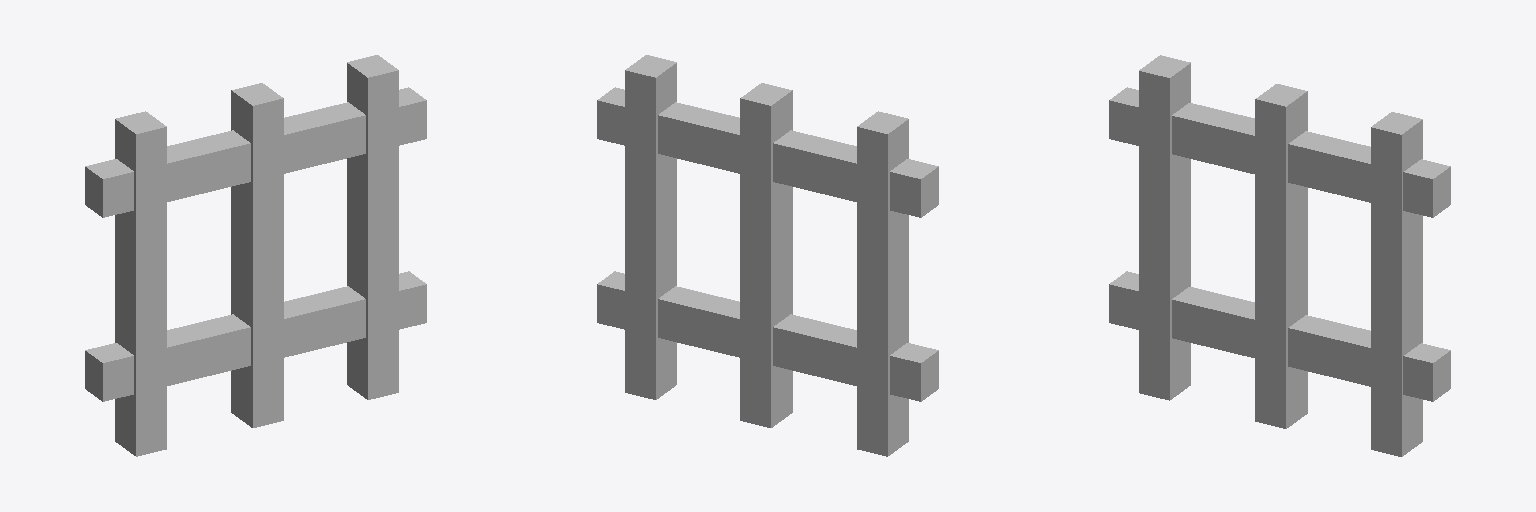
The model's file is fence.obj.
The picture shows the model from 3 angles: view 1: azimuth 30°, elevation 25°; view 2: azimuth 150°, elevation 25°; view 3: azimuth 330°, elevation 25°; orthographic projection.
Visible parts, largest first — view 1: Cube.002_Cube.000; view 2: Cube.002_Cube.000; view 3: Cube.002_Cube.000.
Boxes of the visible parts, x1,y1,x2,y2 form: Cube.002_Cube.000: [85, 55, 426, 456]; Cube.002_Cube.000: [597, 55, 938, 456]; Cube.002_Cube.000: [1109, 55, 1450, 456].
Size of the model in its own units: 1.05 by 1 by 0.12.